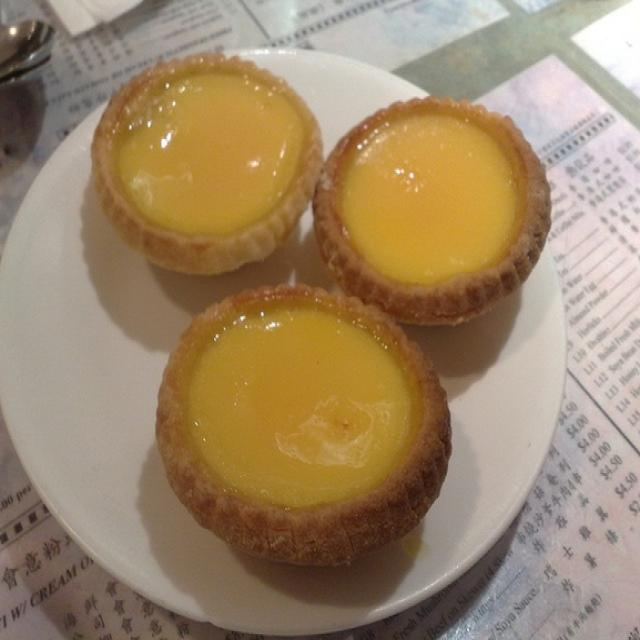炸货点心: (20, 40, 569, 615)
蛋糕甜品: (20, 40, 569, 615)
